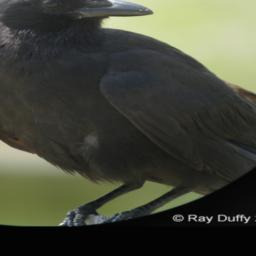Crow: (0, 0, 256, 225)
